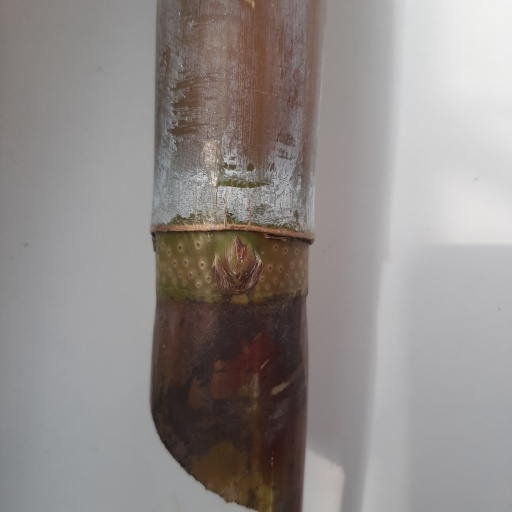Bud: (218, 236, 260, 290)
